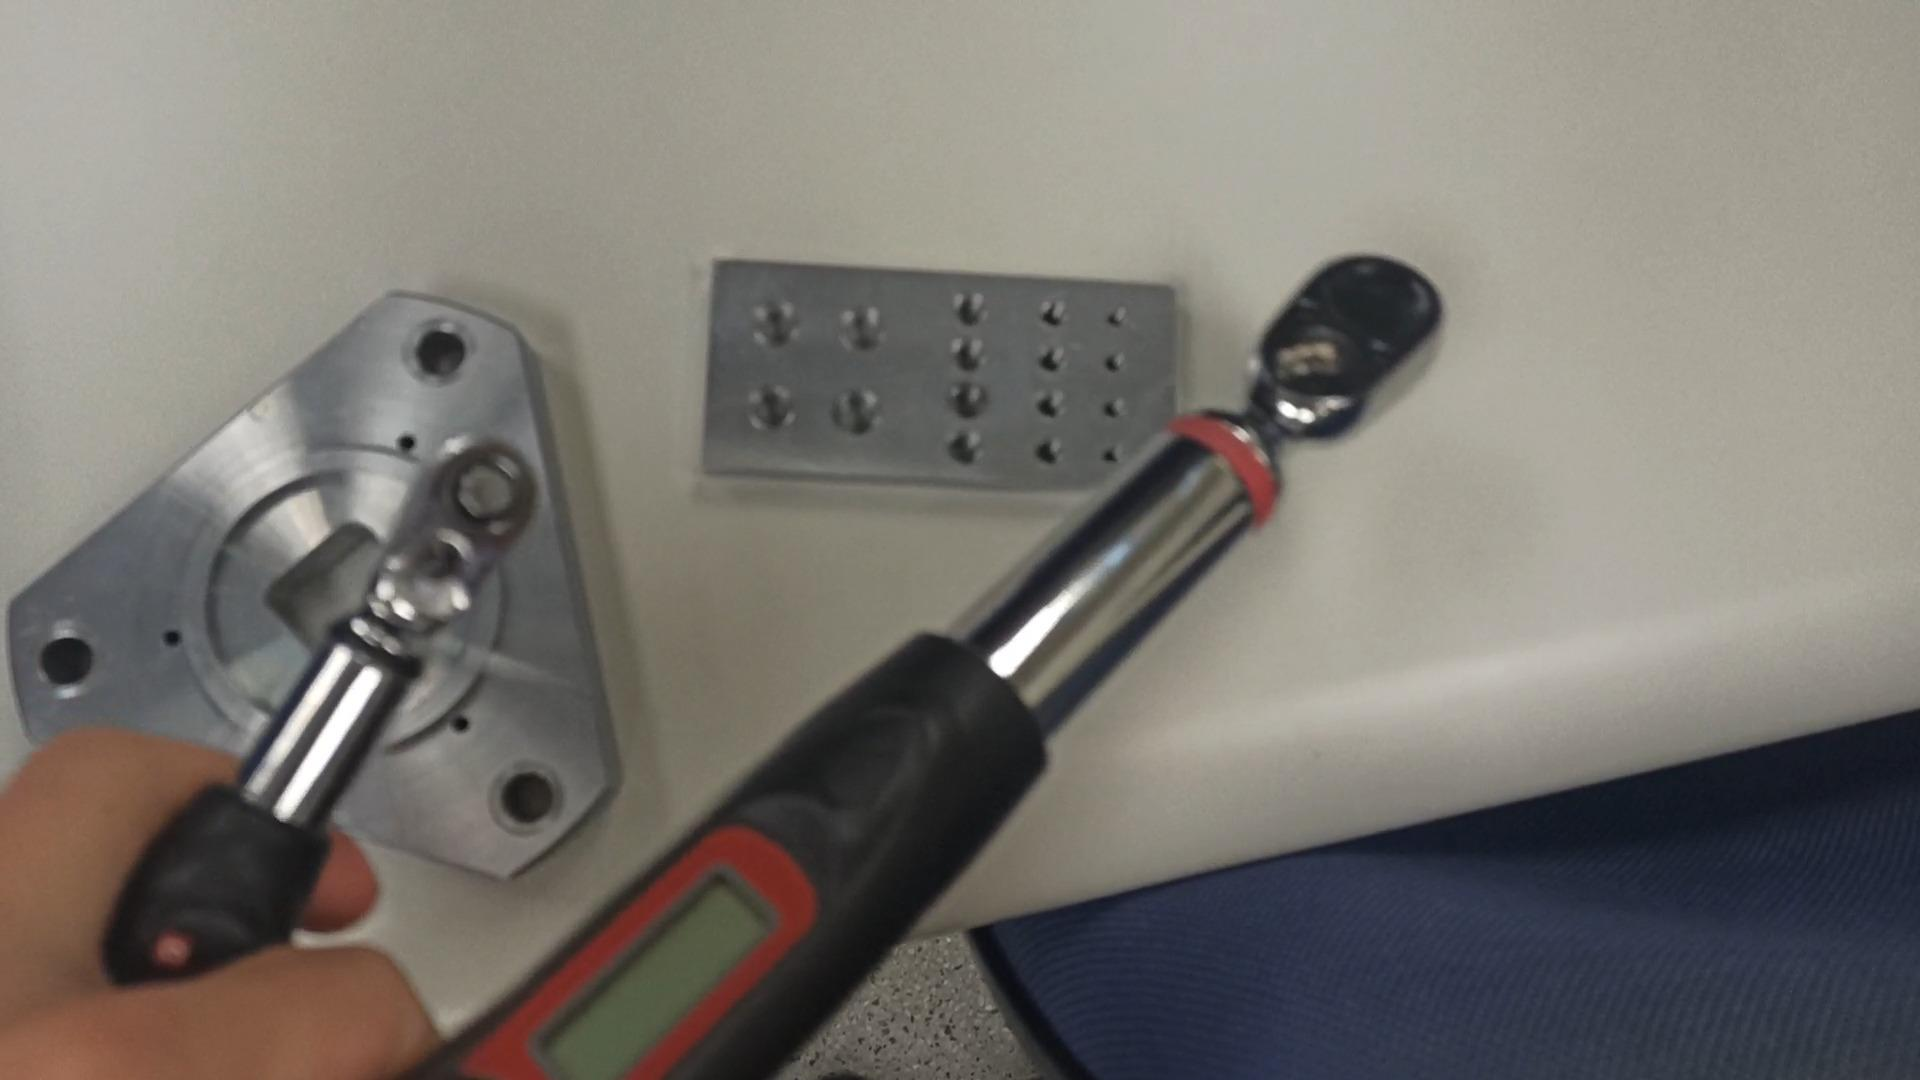Tool: (362, 435, 570, 655), (1248, 242, 1452, 443)
hole: (486, 762, 564, 844), (404, 321, 475, 393), (36, 630, 100, 704), (752, 296, 809, 355), (827, 384, 882, 440), (749, 380, 801, 435), (834, 304, 887, 356), (944, 381, 989, 423), (947, 427, 987, 471), (951, 291, 991, 332), (945, 335, 985, 376), (1031, 436, 1066, 474), (1036, 298, 1069, 335), (1032, 389, 1066, 424), (1035, 343, 1068, 379), (1099, 394, 1130, 427), (1104, 307, 1131, 338), (1102, 349, 1129, 379), (1101, 442, 1123, 467)
